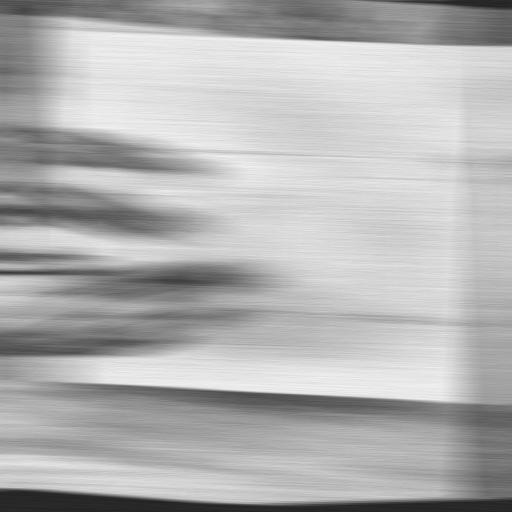bottom_left: (27, 25, 62, 32)
bottom_right: (40, 378, 76, 385)
door: (48, 138, 507, 328)
top_left: (491, 43, 512, 49)
top_right: (473, 401, 504, 407)
